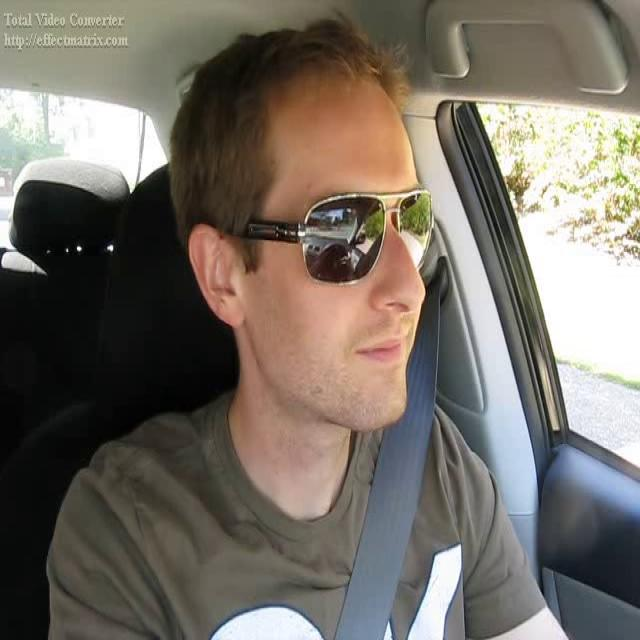close: (353, 332, 411, 372)
